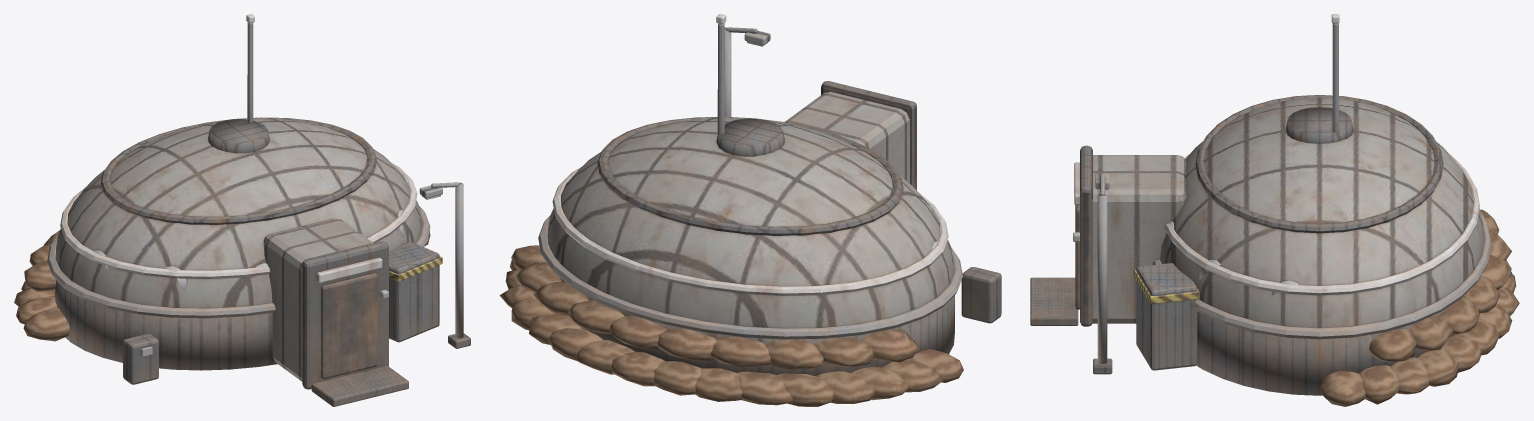
Rendered from house_5.glb.
The picture shows the model from 3 angles, left to right: view 1: azimuth 30°, elevation 25°; view 2: azimuth 150°, elevation 25°; view 3: azimuth 270°, elevation 25°; orthographic projection. The views are drawn at different scales.
Visible parts, largest first — view 1: house_5, Glow; view 2: house_5; view 3: house_5.
Part boxes in pixels (left/top/right/bottom): house_5: left=14, top=14, right=470, bottom=406; Glow: left=93, top=175, right=440, bottom=356; house_5: left=499, top=14, right=1001, bottom=406; house_5: left=1030, top=14, right=1519, bottom=406.
Size of the model in its own units: 3.16 by 2.09 by 3.05.
Materials: 3 (1 with a texture image).
